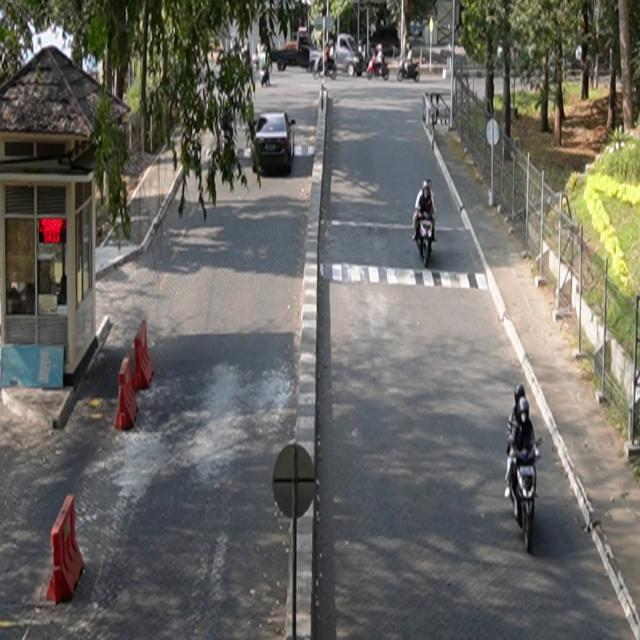car: (252, 111, 297, 174)
